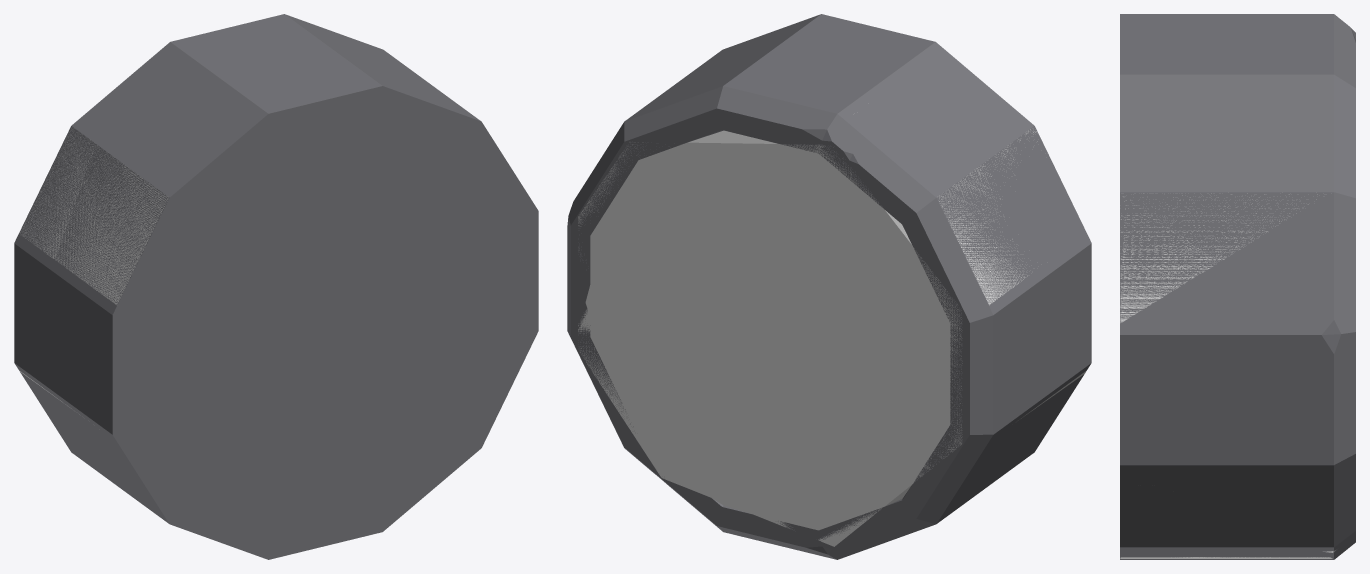
Rendered from SM_Prop_AirVent_Large_01.fbx.
3 renders of one model, left to right at view 1: azimuth 30°, elevation 25°; view 2: azimuth 150°, elevation 25°; view 3: azimuth 270°, elevation 25°, orthographic. The views are drawn at different scales.
Parts seen in each view (by area): view 1: SM_Prop_AirVent_Large_01_LOD0, SM_Prop_AirVent_Large_01_ConvexHulls; view 2: SM_Prop_AirVent_Large_01_ConvexHulls, SM_Prop_AirVent_Large_01_LOD0; view 3: SM_Prop_AirVent_Large_01_LOD0, SM_Prop_AirVent_Large_01_ConvexHulls.
Part boxes in pixels (box(x1,y1,x2,y2)): SM_Prop_AirVent_Large_01_LOD0: box(14, 14, 538, 559); SM_Prop_AirVent_Large_01_ConvexHulls: box(20, 128, 168, 414); SM_Prop_AirVent_Large_01_ConvexHulls: box(578, 129, 1086, 546); SM_Prop_AirVent_Large_01_LOD0: box(567, 14, 1091, 559); SM_Prop_AirVent_Large_01_LOD0: box(1120, 14, 1355, 559); SM_Prop_AirVent_Large_01_ConvexHulls: box(1120, 193, 1335, 558).
Size of the model in its own units: 105 by 239 by 239.
1 material, 1 textured.
